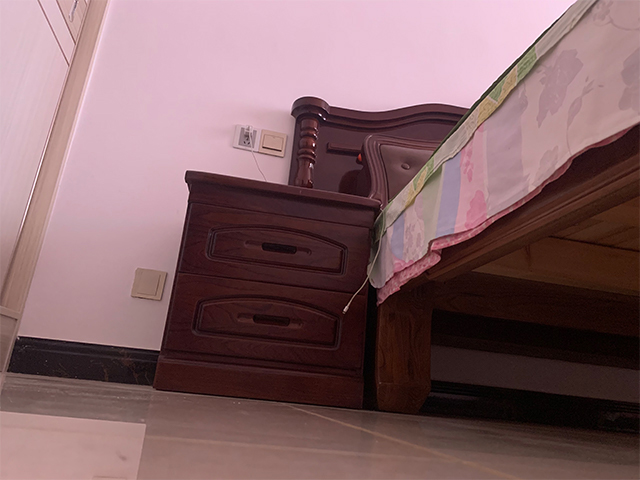bed: (288, 1, 640, 417)
cabinet: (148, 168, 382, 413)
wire: (237, 120, 268, 182)
